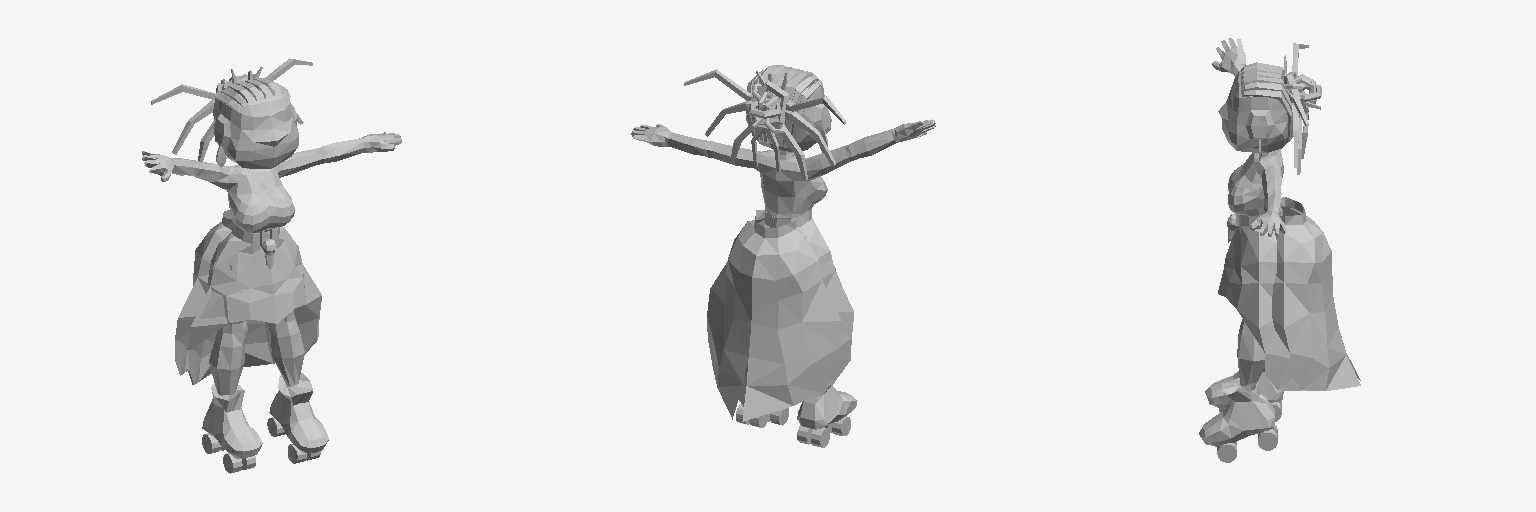
The model's file is WitchFINAL_000059.obj.
3 views of the same model, side by side, from view 1: azimuth 30°, elevation 25°; view 2: azimuth 150°, elevation 25°; view 3: azimuth 270°, elevation 25° (orthographic).
Visible parts, largest first — view 1: Body_Cylinder, Torso(Boobies)_Cylinder.002, LegR_Cube.004, LegL_Cube.003, Head_Cylinder.004, ZBody_Cylinder.001, Hair_Cylinder.006, Tail.001_Torus.001; view 2: ZBody_Cylinder.001, Torso(Boobies)_Cylinder.002, Body_Cylinder, LegR_Cube.004, Hair_Cylinder.006, Tail.001_Torus.001, Tail_Torus, Tail.002_Torus.002, Head_Cylinder.004, LegL_Cube.003; view 3: ZBody_Cylinder.001, Body_Cylinder, LegL_Cube.003, Torso(Boobies)_Cylinder.002, Head_Cylinder.004, Hair_Cylinder.006, LegR_Cube.004, Tail_Torus, Tail.002_Torus.002.
Part boxes in pixels (left/top/right/bottom): Body_Cylinder: left=187, top=223, right=321, bottom=384; Torso(Boobies)_Cylinder.002: left=142, top=132, right=401, bottom=233; LegR_Cube.004: left=202, top=264, right=262, bottom=473; LegL_Cube.003: left=267, top=276, right=328, bottom=463; Head_Cylinder.004: left=213, top=80, right=298, bottom=168; ZBody_Cylinder.001: left=175, top=210, right=232, bottom=375; Hair_Cylinder.006: left=213, top=78, right=290, bottom=119; Tail.001_Torus.001: left=151, top=84, right=220, bottom=161; ZBody_Cylinder.001: left=707, top=210, right=841, bottom=421; Torso(Boobies)_Cylinder.002: left=631, top=119, right=935, bottom=218; Body_Cylinder: left=739, top=208, right=853, bottom=406; LegR_Cube.004: left=797, top=384, right=857, bottom=447; Hair_Cylinder.006: left=746, top=65, right=822, bottom=147; Tail.001_Torus.001: left=764, top=96, right=845, bottom=180; Tail_Torus: left=749, top=70, right=789, bottom=132; Tail.002_Torus.002: left=684, top=69, right=764, bottom=166; Head_Cylinder.004: left=746, top=73, right=831, bottom=151; LegL_Cube.003: left=736, top=399, right=788, bottom=427; ZBody_Cylinder.001: left=1272, top=197, right=1360, bottom=390; Body_Cylinder: left=1218, top=210, right=1305, bottom=390; LegL_Cube.003: left=1199, top=281, right=1277, bottom=462; Torso(Boobies)_Cylinder.002: left=1212, top=38, right=1286, bottom=236; Head_Cylinder.004: left=1218, top=69, right=1289, bottom=152; Hair_Cylinder.006: left=1241, top=62, right=1299, bottom=142; LegR_Cube.004: left=1205, top=368, right=1283, bottom=421; Tail_Torus: left=1281, top=55, right=1321, bottom=113; Tail.002_Torus.002: left=1289, top=93, right=1308, bottom=174.
Bounding box in the file's own units: 12.86 × 16.79 × 6.5.